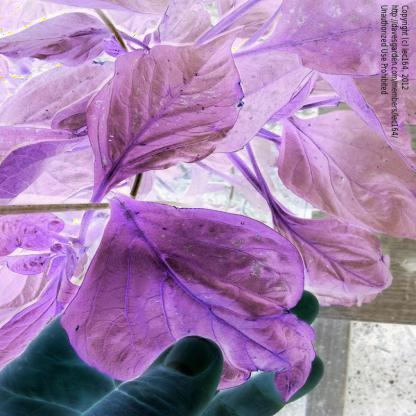Bell_pepper leaf spot: (252, 72, 415, 264), (26, 131, 263, 252), (136, 4, 317, 109), (275, 20, 401, 113), (1, 27, 105, 122)
